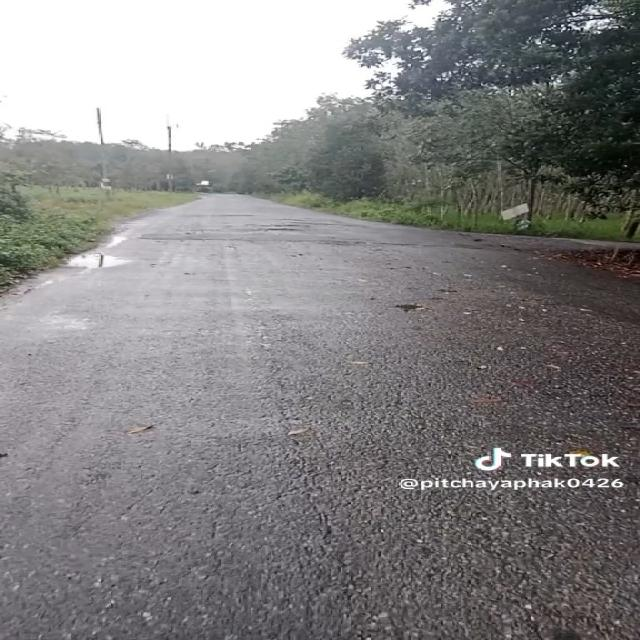Poth-hole: (206, 212, 359, 250)
